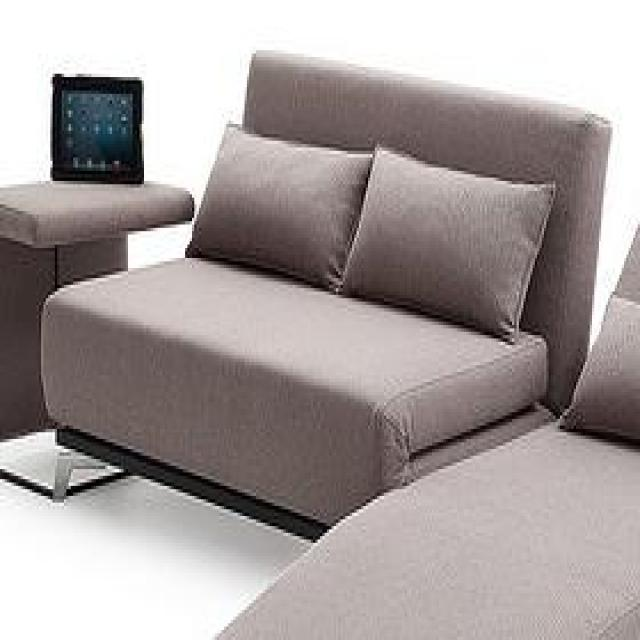sofa: (40, 43, 614, 554)
